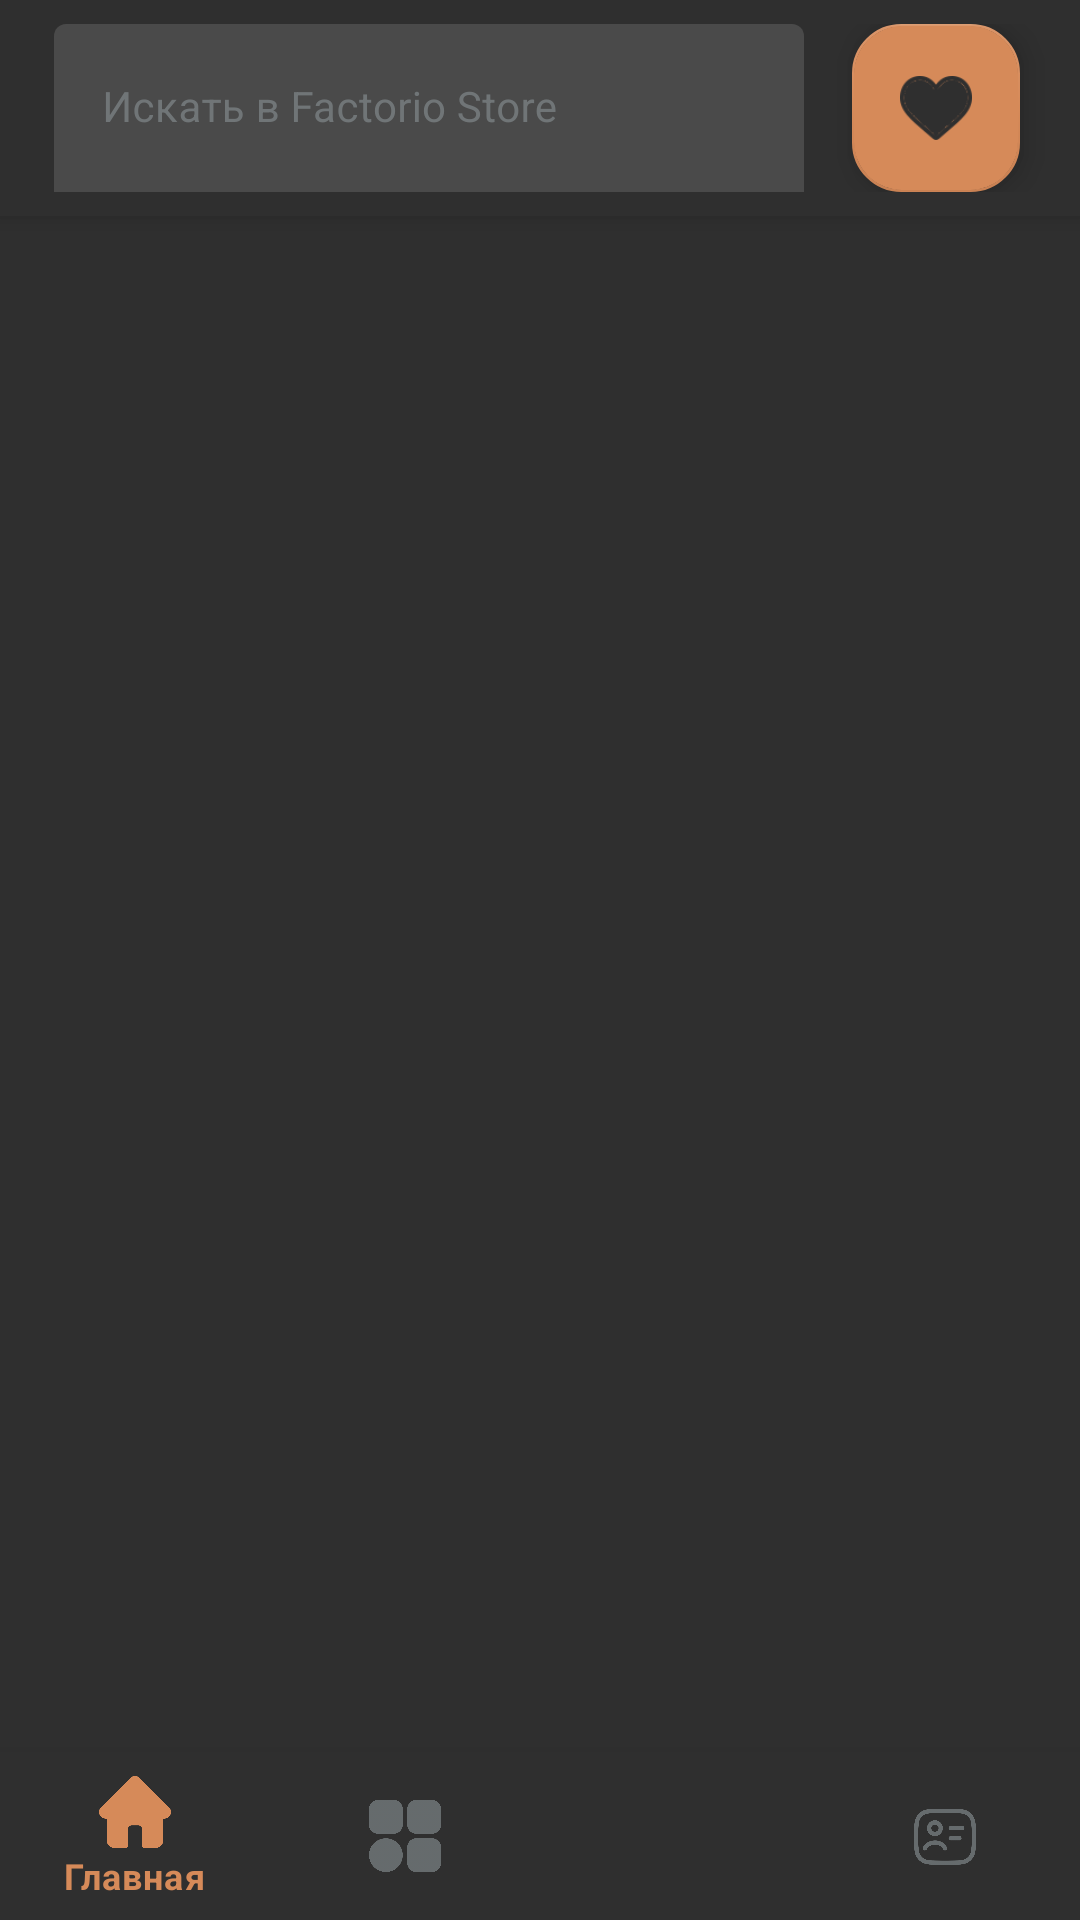

Icon click points for this 1080w x 1920h phone screenshot, format (x=x, y=y):
Избранное: (x=936, y=108)
